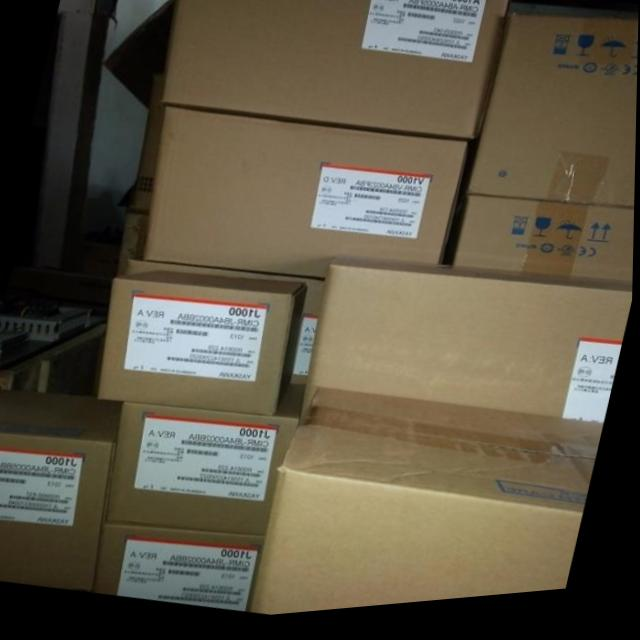box: (251, 392, 606, 620), (301, 262, 634, 434), (142, 110, 469, 282), (163, 0, 511, 149), (469, 14, 639, 217), (97, 271, 308, 421), (105, 389, 305, 540), (0, 388, 127, 592), (125, 261, 329, 383), (453, 203, 635, 292), (95, 523, 266, 616)
